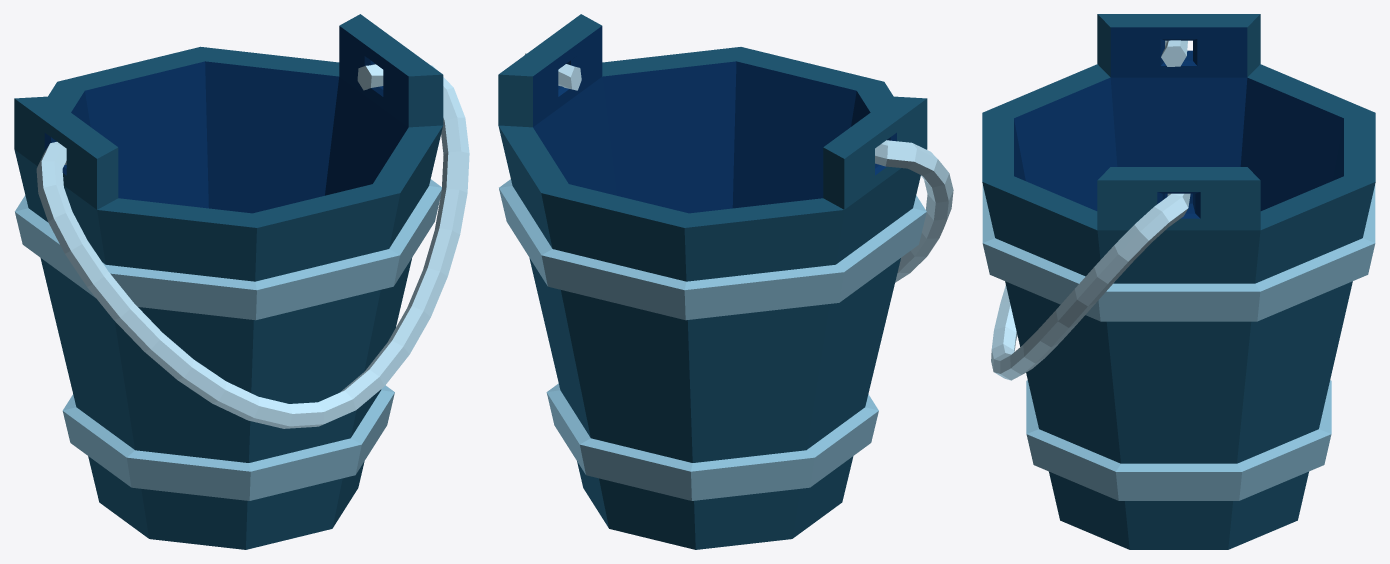
File: balde.glb
3 renders of one model, left to right at view 1: azimuth 30°, elevation 25°; view 2: azimuth 150°, elevation 25°; view 3: azimuth 270°, elevation 25°, orthographic.
Visible parts, largest first — view 1: wooden_bucket_03; view 2: wooden_bucket_03; view 3: wooden_bucket_03.
Part boxes in pixels (left/top/right/bottom): wooden_bucket_03: left=14, top=14, right=469, bottom=549; wooden_bucket_03: left=498, top=14, right=953, bottom=549; wooden_bucket_03: left=982, top=14, right=1375, bottom=549.
Bounding box in the file's own units: 0.613 × 0.5804 × 0.5143.
1 material, 1 textured.
